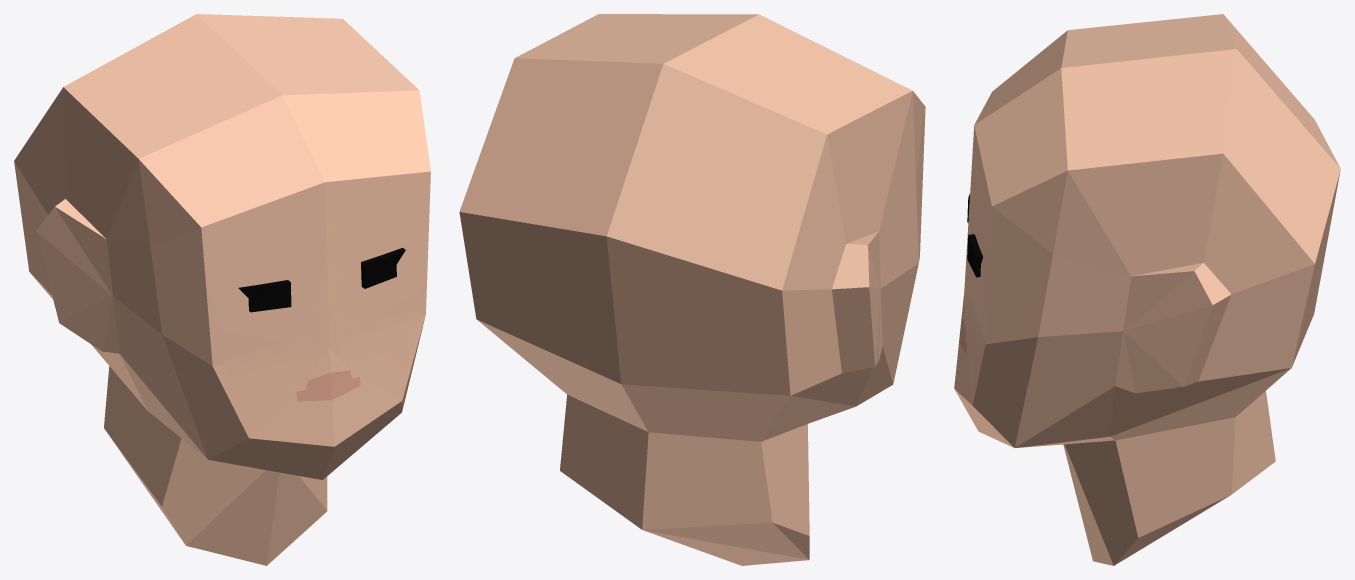
File: Chr_Head_Female_14_Static.fbx
The picture shows the model from 3 angles, left to right: view 1: azimuth 30°, elevation 25°; view 2: azimuth 150°, elevation 25°; view 3: azimuth 270°, elevation 25°; orthographic projection. The views are drawn at different scales.
Parts seen in each view (by area): view 1: Chr_Head_Female_14_Static; view 2: Chr_Head_Female_14_Static; view 3: Chr_Head_Female_14_Static.
Part boxes in pixels (x1,y1,x2,y2): Chr_Head_Female_14_Static: [14, 14, 430, 565]; Chr_Head_Female_14_Static: [459, 14, 925, 565]; Chr_Head_Female_14_Static: [954, 14, 1340, 565].
Size of the model in its own units: 0.2661 by 0.3693 by 0.2526.
